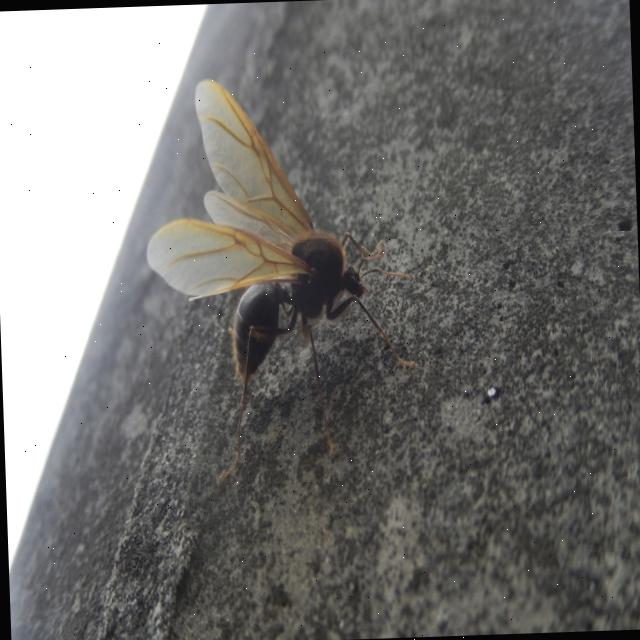Alive-Male-Alate: (140, 70, 420, 490)
